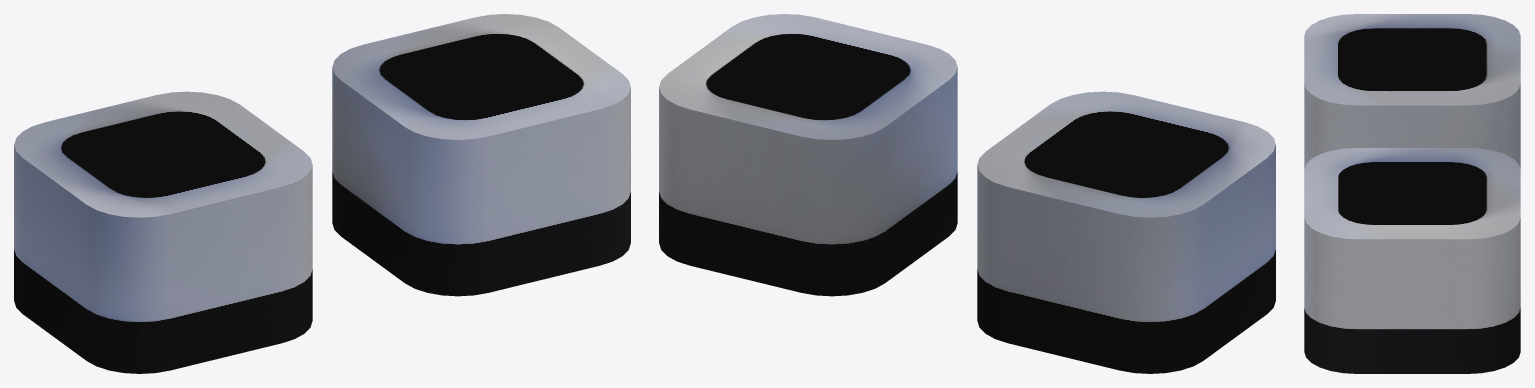
The model's file is Web_GK_Casing_Tombol.glb.
3 views of the same model, side by side, from view 1: azimuth 30°, elevation 25°; view 2: azimuth 150°, elevation 25°; view 3: azimuth 270°, elevation 25° (orthographic). The views are drawn at different scales.
Visible parts, largest first — view 1: Cube.006; view 2: Cube.006; view 3: Cube.006.
Boxes of the visible parts, bbox=[...] form: Cube.006: bbox=[14, 14, 630, 373]; Cube.006: bbox=[659, 14, 1275, 373]; Cube.006: bbox=[1304, 14, 1520, 373].
Size of the model in its own units: 0.6633 by 0.1847 by 0.2694.
2 materials, 2 textured.
